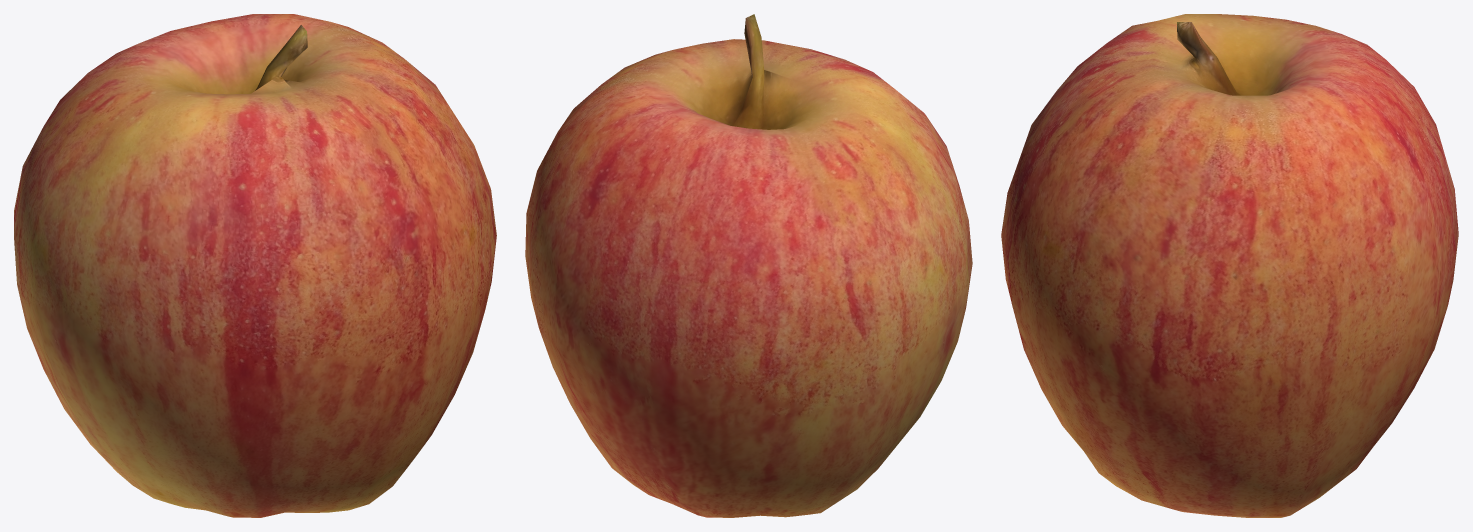
The model's file is A34_Apple_low.fbx.
3 views of the same model, side by side, from view 1: azimuth 30°, elevation 25°; view 2: azimuth 150°, elevation 25°; view 3: azimuth 270°, elevation 25° (orthographic). The views are drawn at different scales.
Parts seen in each view (by area): view 1: A34_Apple_low; view 2: A34_Apple_low; view 3: A34_Apple_low.
Boxes of the visible parts, x1,y1,x2,y2 form: A34_Apple_low: (14, 14, 496, 517); A34_Apple_low: (525, 14, 972, 517); A34_Apple_low: (1001, 14, 1458, 517).
Size of the model in its own units: 9.01 by 8.71 by 9.86.
1 material, 1 textured.
